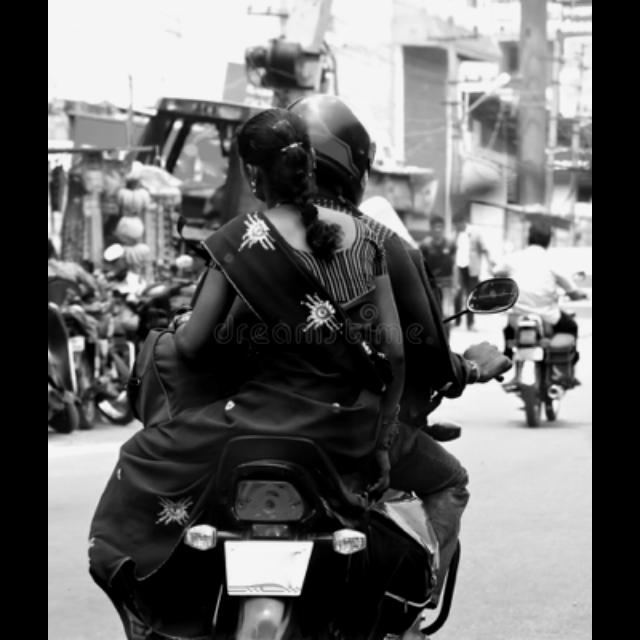Without Helmet: (514, 206, 566, 254)
